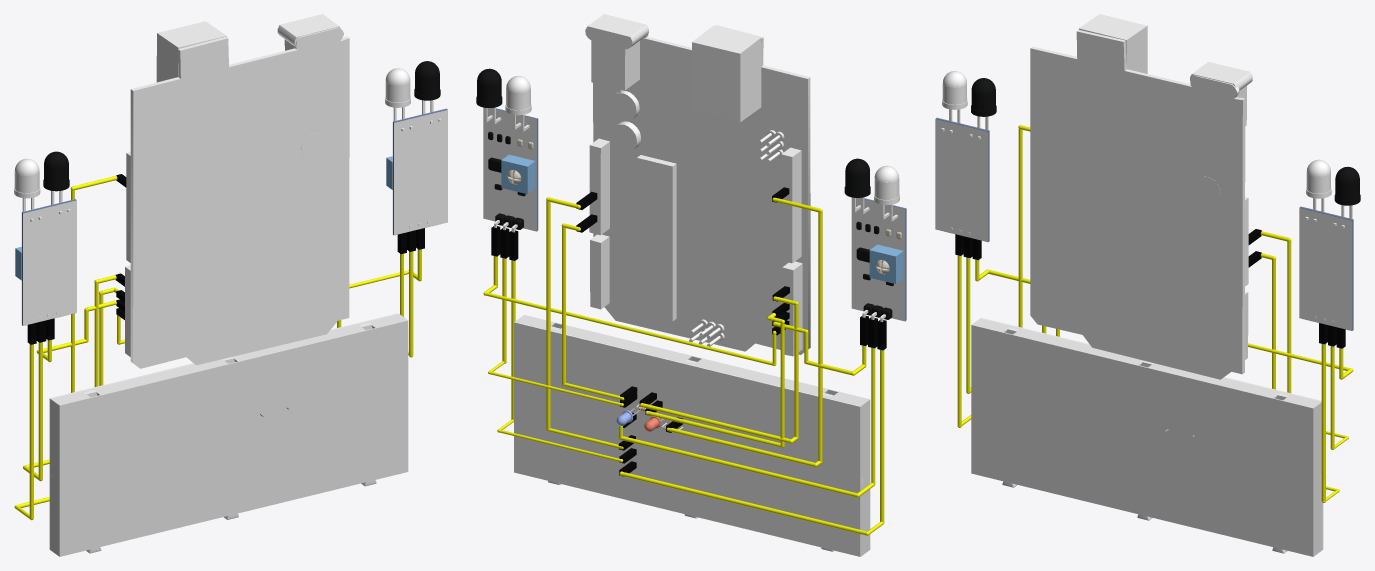
File: Smart_Parking.glb
3 views of the same model, side by side, from view 1: azimuth 30°, elevation 25°; view 2: azimuth 150°, elevation 25°; view 3: azimuth 330°, elevation 25° (orthographic).
Parts seen in each view (by area): view 1: node_id293, HP, ir_buttom, ir_buttom_1, node_id294, node_id364, node_id375, Cylinder_6, LP, Cylinder_7, node_id345; view 2: LP, node_id293, node_id375, node_id294, node_id364, HP, ir_top_001, ir_top, node_id364_1.001, node_id345, Cylinder__1__8, Cylinder___2_ (+15 smaller); view 3: node_id293, HP, ir_buttom_1, ir_buttom, node_id294, node_id375, Cylinder__1__8, Cylinder_6, Cylinder_4, Cylinder__1_, Cylinder_7, LP (+1 smaller).
Boxes of the visible parts, bbox=[...] form: node_id293: bbox=[130, 27, 349, 368]; HP: bbox=[50, 314, 408, 556]; ir_buttom: bbox=[394, 110, 447, 235]; ir_buttom_1: bbox=[23, 200, 76, 325]; node_id294: bbox=[156, 21, 226, 82]; node_id364: bbox=[125, 152, 130, 356]; node_id375: bbox=[277, 14, 340, 50]; Cylinder_6: bbox=[29, 344, 33, 518]; LP: bbox=[49, 313, 398, 549]; Cylinder_7: bbox=[38, 342, 42, 479]; node_id345: bbox=[301, 133, 327, 161]; LP: bbox=[514, 321, 863, 556]; node_id293: bbox=[593, 25, 810, 354]; node_id375: bbox=[585, 14, 676, 321]; node_id294: bbox=[692, 26, 761, 122]; node_id364: bbox=[590, 147, 802, 356]; HP: bbox=[515, 315, 870, 555]; ir_top_001: bbox=[851, 197, 905, 321]; ir_top: bbox=[483, 107, 536, 231]; node_id364_1.001: bbox=[589, 138, 609, 235]; node_id345: bbox=[609, 91, 640, 152]; Cylinder__1__8: bbox=[818, 212, 822, 462]; Cylinder___2_: bbox=[485, 292, 772, 365]; node_id293: bbox=[1030, 30, 1245, 379]; HP: bbox=[971, 318, 1322, 556]; ir_buttom_1: bbox=[935, 119, 988, 241]; ir_buttom: bbox=[1299, 207, 1352, 330]; node_id294: bbox=[1079, 14, 1147, 73]; node_id375: bbox=[1190, 62, 1252, 125]; Cylinder__1__8: bbox=[1018, 128, 1022, 327]; Cylinder_6: bbox=[957, 255, 961, 426]; Cylinder_4: bbox=[1321, 344, 1325, 501]; Cylinder__1_: bbox=[1287, 241, 1291, 393]; Cylinder_7: bbox=[966, 257, 970, 392]; LP: bbox=[980, 318, 1323, 549].
Size of the model in its own units: 0.8065 by 0.888 by 0.1152.
